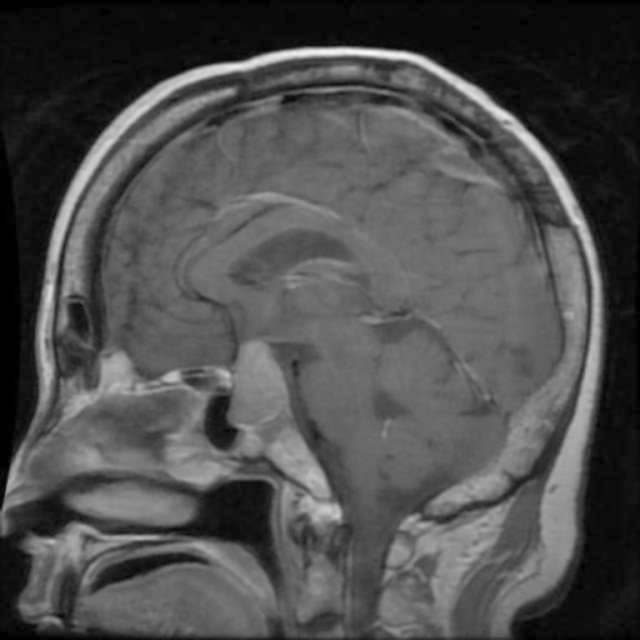no tumor: (234, 348, 295, 448)
